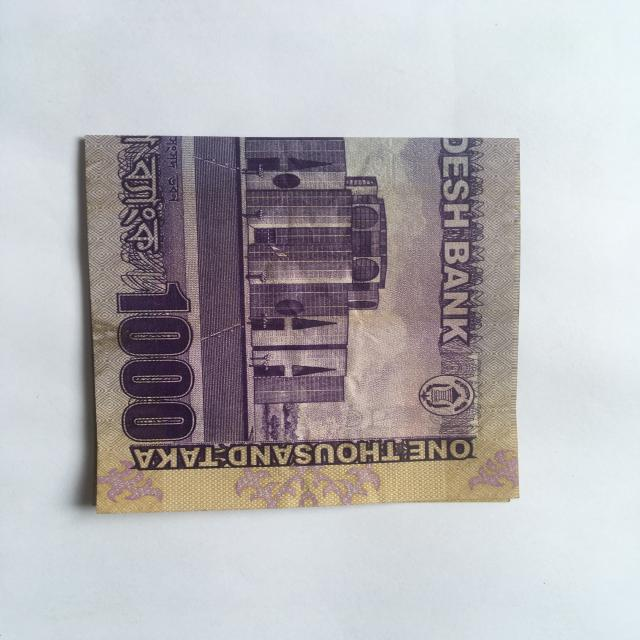Taka: (75, 134, 525, 504)
